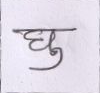u_matra: (31, 51, 66, 71)
